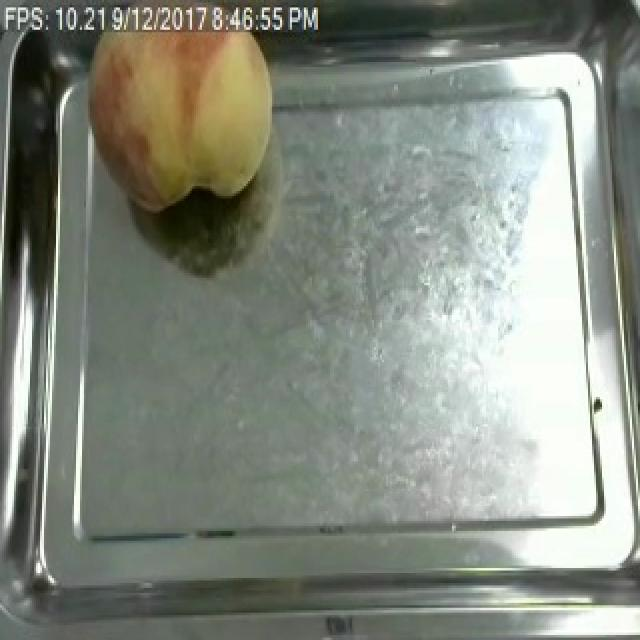Fruit: (64, 7, 286, 221)
